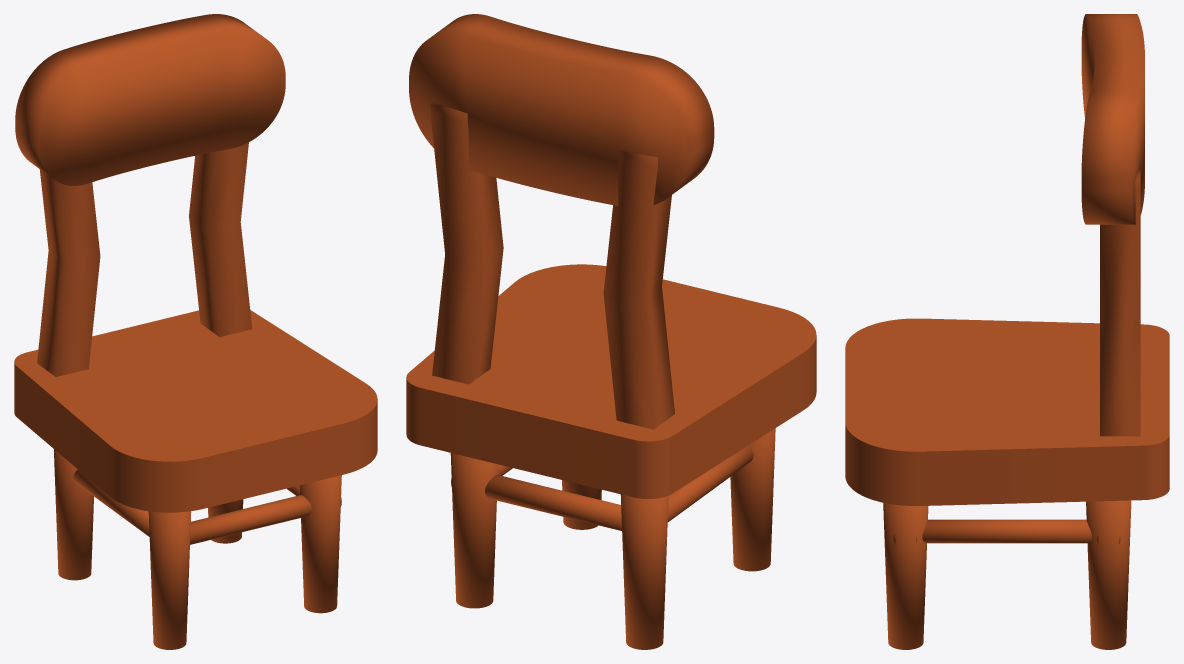
Rendered from chair.glb.
The picture shows the model from 3 angles, left to right: view 1: azimuth 30°, elevation 25°; view 2: azimuth 150°, elevation 25°; view 3: azimuth 270°, elevation 25°; orthographic projection. The views are drawn at different scales.
Visible parts, largest first — view 1: Cube.008, Cube.013, Cube.009, Cylinder.008, Cylinder.005; view 2: Cube.008, Cube.013, Cube.009, Cylinder.008, Cylinder.005; view 3: Cube.008, Cube.013, Cylinder.008, Cube.009, Cylinder.005.
Boxes of the visible parts, x1,y1,x2,y2 form: Cube.008: (14,310,377,512); Cube.013: (15,14,285,185); Cube.009: (37,142,252,376); Cylinder.008: (54,449,341,649); Cylinder.005: (73,470,341,544); Cube.008: (406,264,816,498); Cube.013: (409,14,714,205); Cube.009: (430,102,674,429); Cylinder.008: (450,428,775,649); Cylinder.005: (451,446,753,530); Cube.008: (845,318,1169,505); Cube.013: (1081,14,1144,224); Cylinder.008: (883,500,1131,649); Cube.009: (1100,164,1140,436); Cylinder.005: (893,519,1120,544).
Bounding box in the file's own units: 0.8504 × 1.63 × 0.8759.
